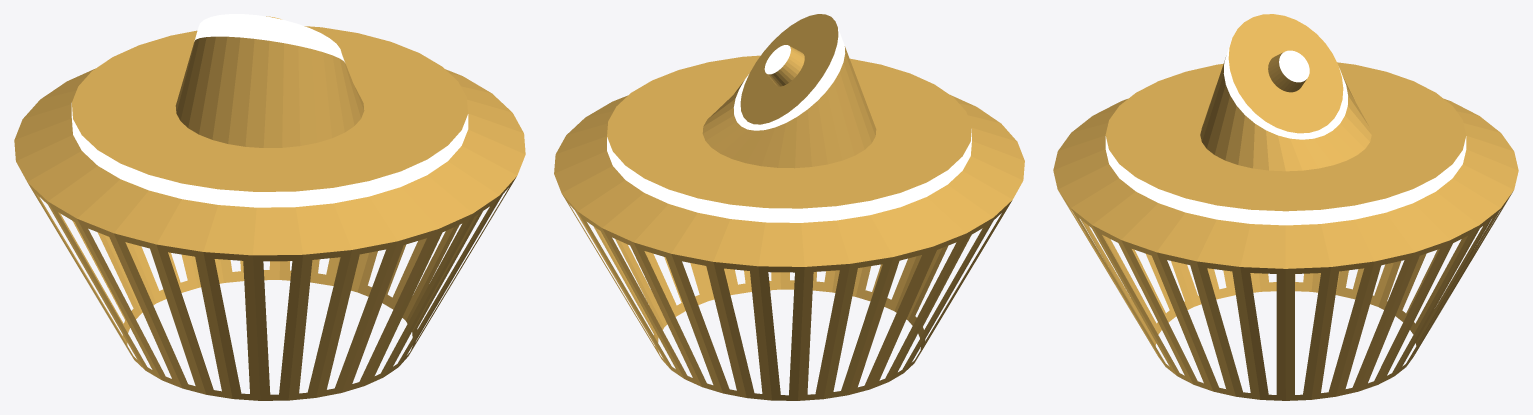
Rendered from hofButton2.glb.
3 views of the same model, side by side, from view 1: azimuth 30°, elevation 25°; view 2: azimuth 150°, elevation 25°; view 3: azimuth 270°, elevation 25° (orthographic). The views are drawn at different scales.
Visible parts, largest first — view 1: hofButton2; view 2: hofButton2; view 3: hofButton2.
Part boxes in pixels (x1,y1,x2,y2): hofButton2: (14, 14, 525, 400); hofButton2: (554, 14, 1024, 400); hofButton2: (1053, 14, 1518, 400).
Bounding box in the file's own units: 2.15 × 1.6 × 2.15.
